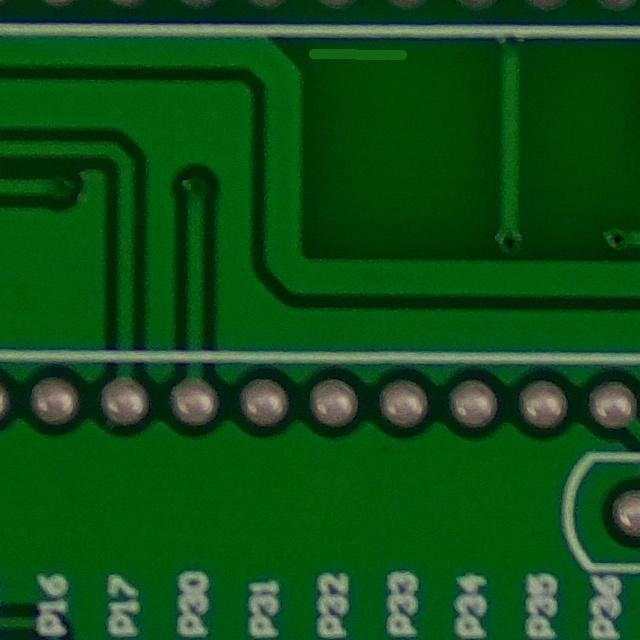spurious_copper: (298, 25, 424, 87)
